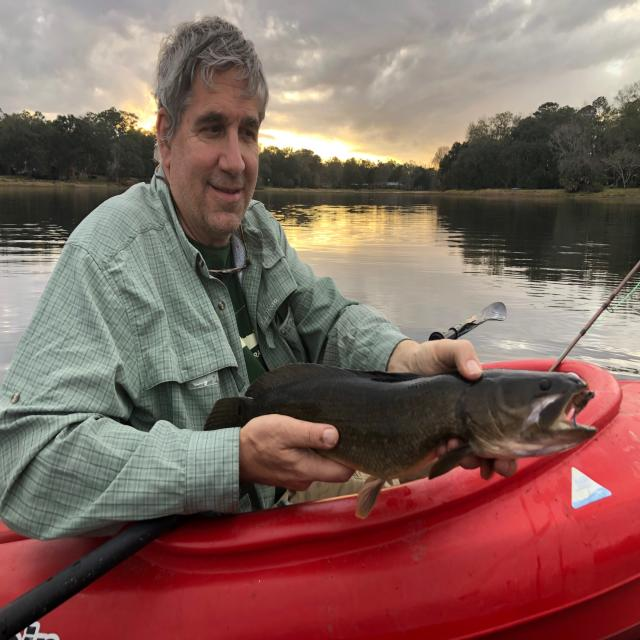Bowfin: (204, 363, 596, 518)
